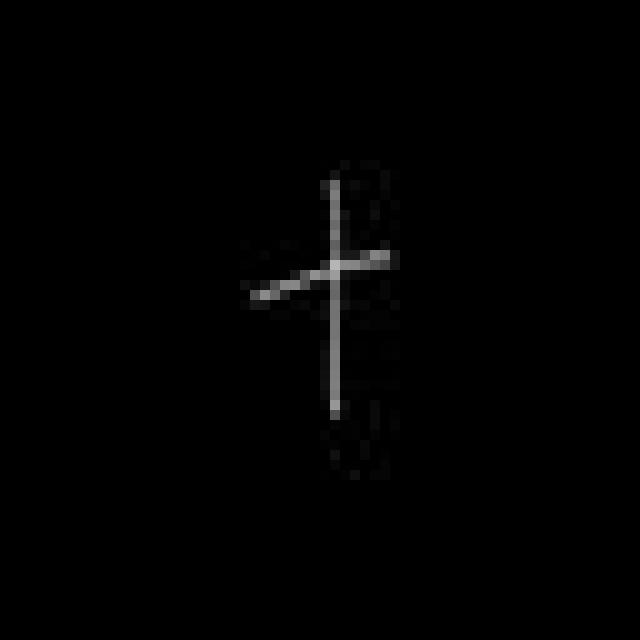10 -ten-: (241, 167, 405, 445)
